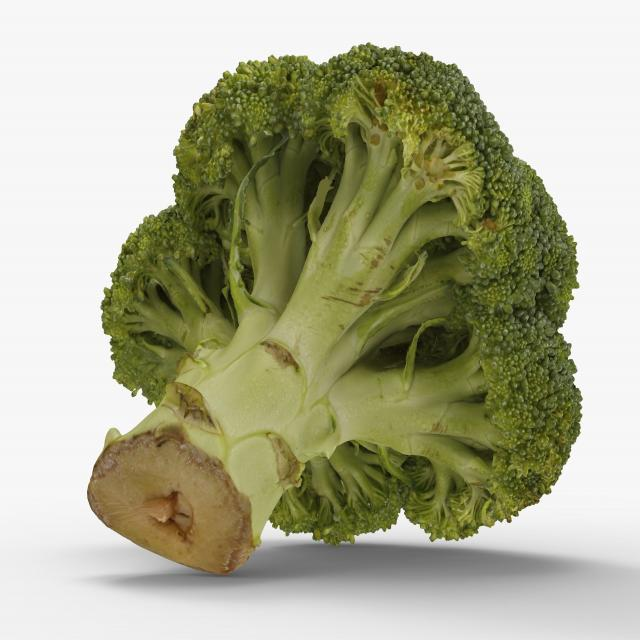broccoli: (85, 39, 585, 581)
